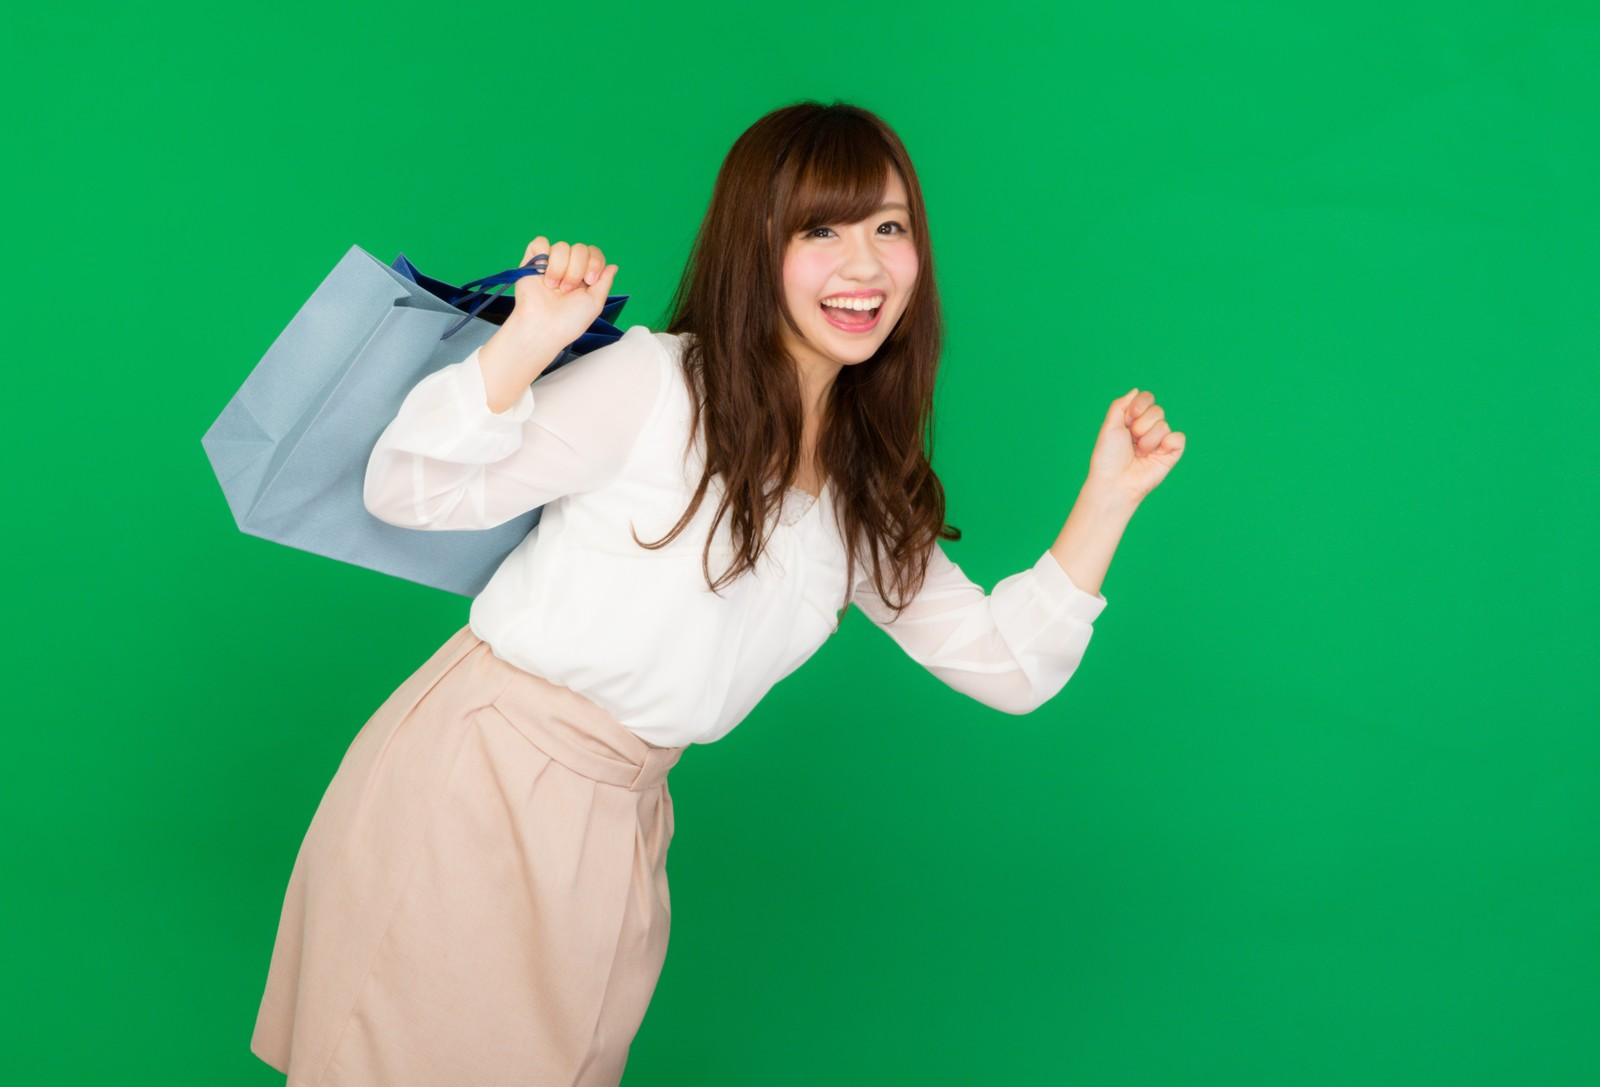face: (782, 162, 919, 362)
hand: (515, 236, 619, 345), (1087, 384, 1184, 496)
